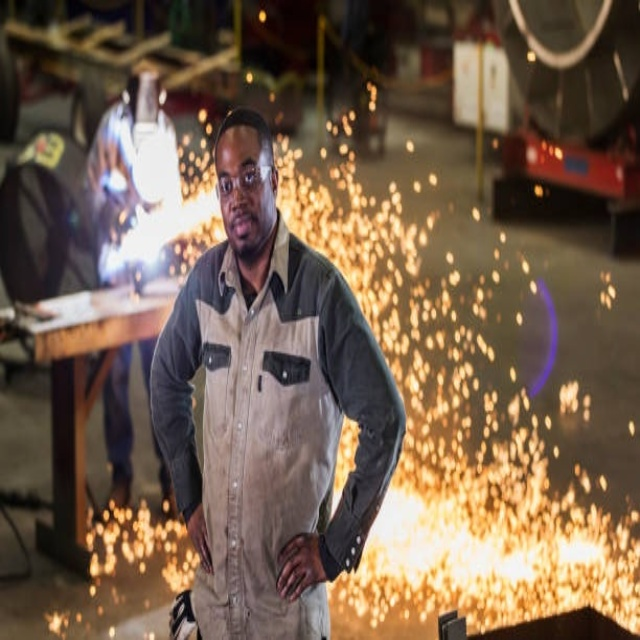Gafas: (216, 162, 272, 199)
Sin_guantes: (274, 522, 326, 603), (182, 501, 215, 577)
Sin_mascara: (226, 211, 258, 242)
